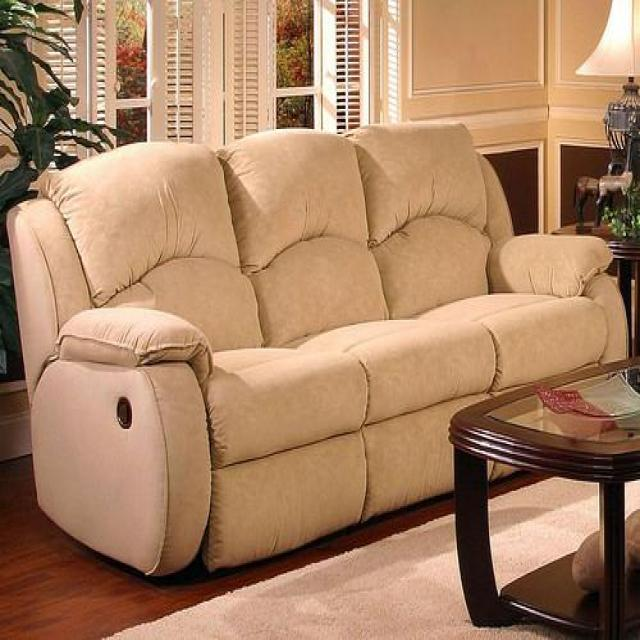sofa: (5, 117, 632, 587)
